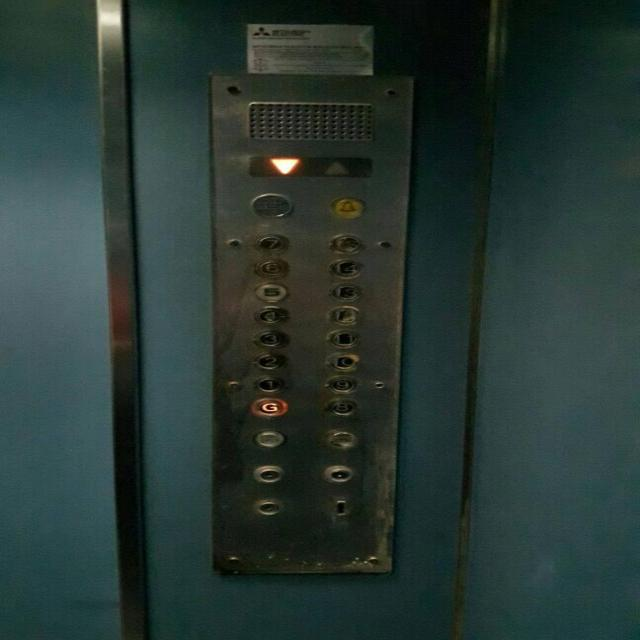1: (252, 374, 288, 394)
10: (322, 351, 360, 372)
11: (324, 328, 362, 348)
13: (325, 280, 364, 302)
14: (325, 258, 364, 280)
2: (252, 351, 288, 371)
3: (252, 329, 288, 348)
4: (252, 305, 288, 324)
5: (251, 281, 289, 302)
6: (252, 257, 290, 278)
7: (251, 233, 291, 254)
8: (322, 397, 360, 417)
9: (323, 373, 361, 394)
G: (249, 396, 287, 416)
alarm: (327, 195, 366, 219)
blur: (245, 192, 292, 219), (325, 233, 364, 256), (323, 304, 362, 326)
keyhole: (251, 463, 285, 484), (321, 464, 355, 483), (254, 498, 281, 516)
switch: (330, 496, 350, 518)
text: (323, 428, 359, 449), (252, 429, 285, 448)
